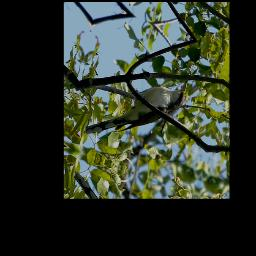Cuckoo: (83, 48, 189, 168)
